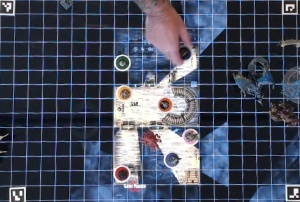blue: (176, 45, 192, 60)
green: (113, 54, 131, 71)
orange: (156, 96, 175, 111)
pink: (181, 127, 199, 145)
red: (112, 164, 131, 183)
violet: (161, 151, 180, 169)
yellow: (115, 83, 131, 102)
